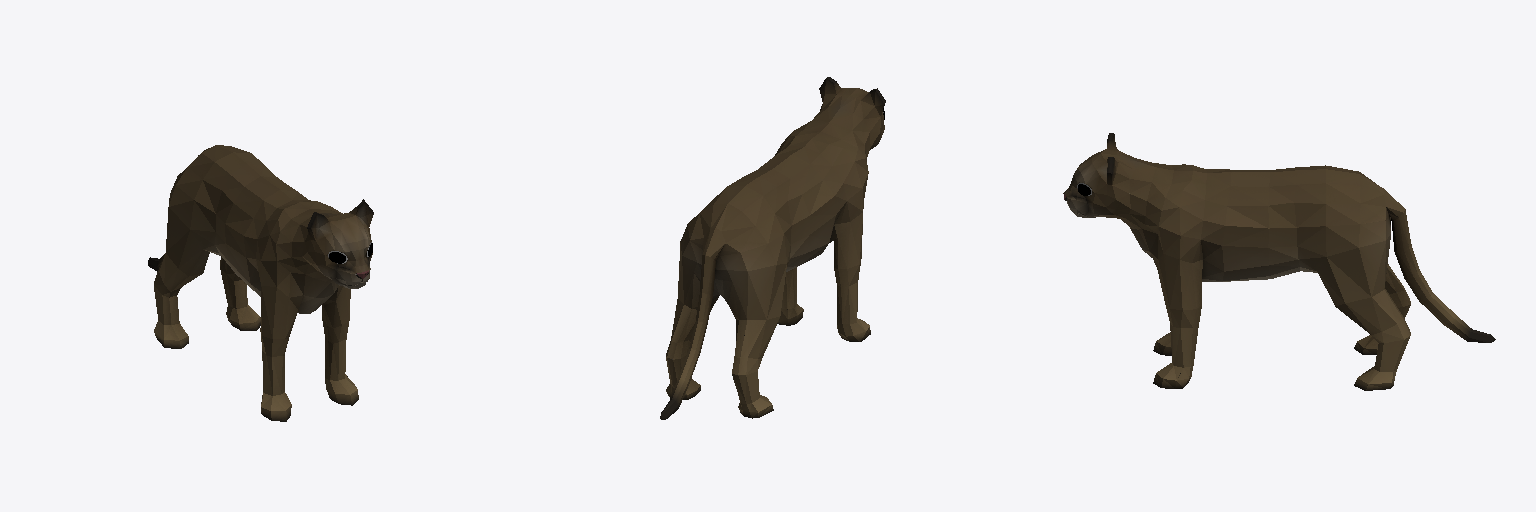
3 views of the same model, side by side, from view 1: azimuth 30°, elevation 25°; view 2: azimuth 150°, elevation 25°; view 3: azimuth 270°, elevation 25° (orthographic).
Visible parts, largest first — view 1: base.144_Mesh.003; view 2: base.144_Mesh.003; view 3: base.144_Mesh.003.
Boxes of the visible parts, box(x1,y1,x2,y2) form: base.144_Mesh.003: box(148, 145, 373, 421); base.144_Mesh.003: box(660, 77, 885, 419); base.144_Mesh.003: box(1063, 133, 1495, 390).
Size of the model in its own units: 0.4017 by 0.8748 by 1.54.
1 materials, 1 textured.